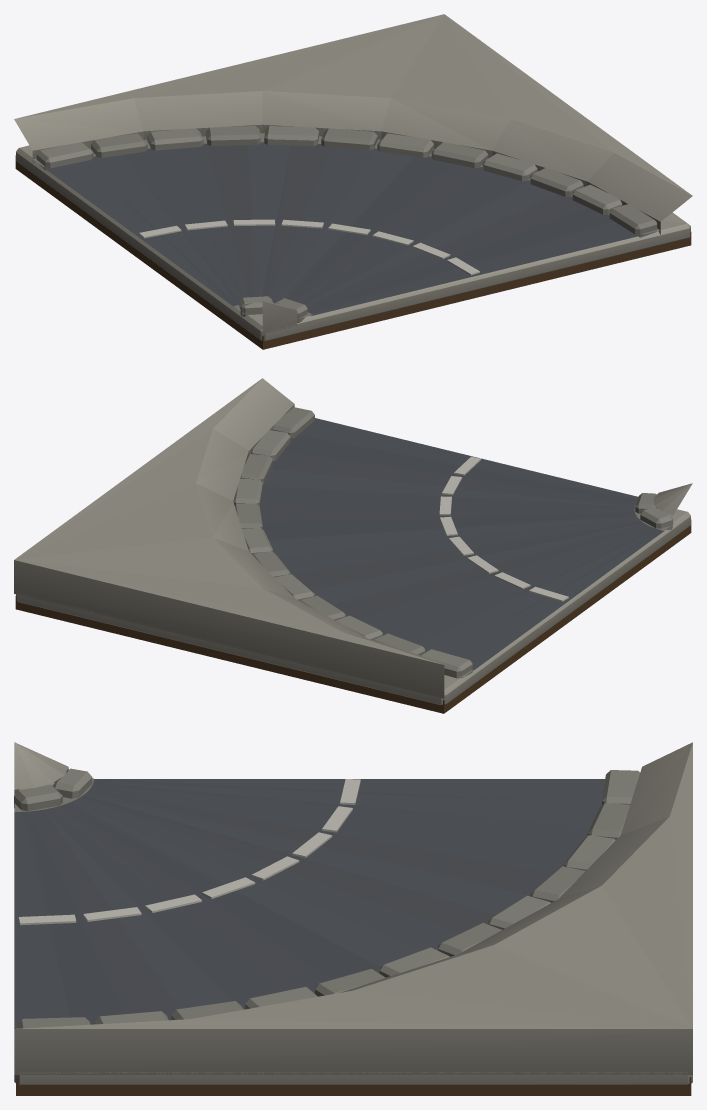
Rendered from road-corner-01.glb.
3 renders of one model, top to bottom at view 1: azimuth 30°, elevation 25°; view 2: azimuth 150°, elevation 25°; view 3: azimuth 270°, elevation 25°, orthographic. The views are drawn at different scales.
Visible parts, largest first — view 1: road_corner_01; view 2: road_corner_01; view 3: road_corner_01.
Part boxes in pixels (x1,y1,x2,y2): road_corner_01: (14, 14, 692, 349); road_corner_01: (14, 378, 692, 713); road_corner_01: (14, 742, 692, 1095).
Bounding box in the file's own units: 4 × 0.44 × 4.
